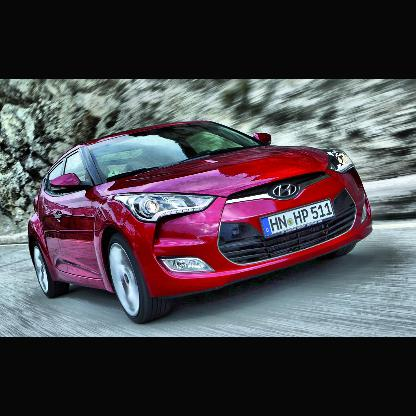Hyundai Veloster Hatchback 2012: (26, 119, 374, 325)
